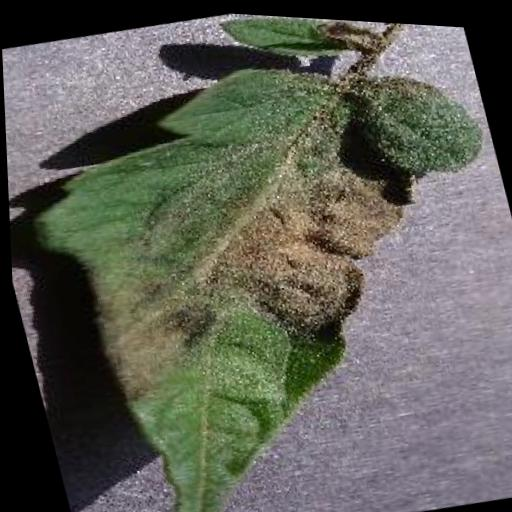Late Blight: (4, 6, 512, 512)
